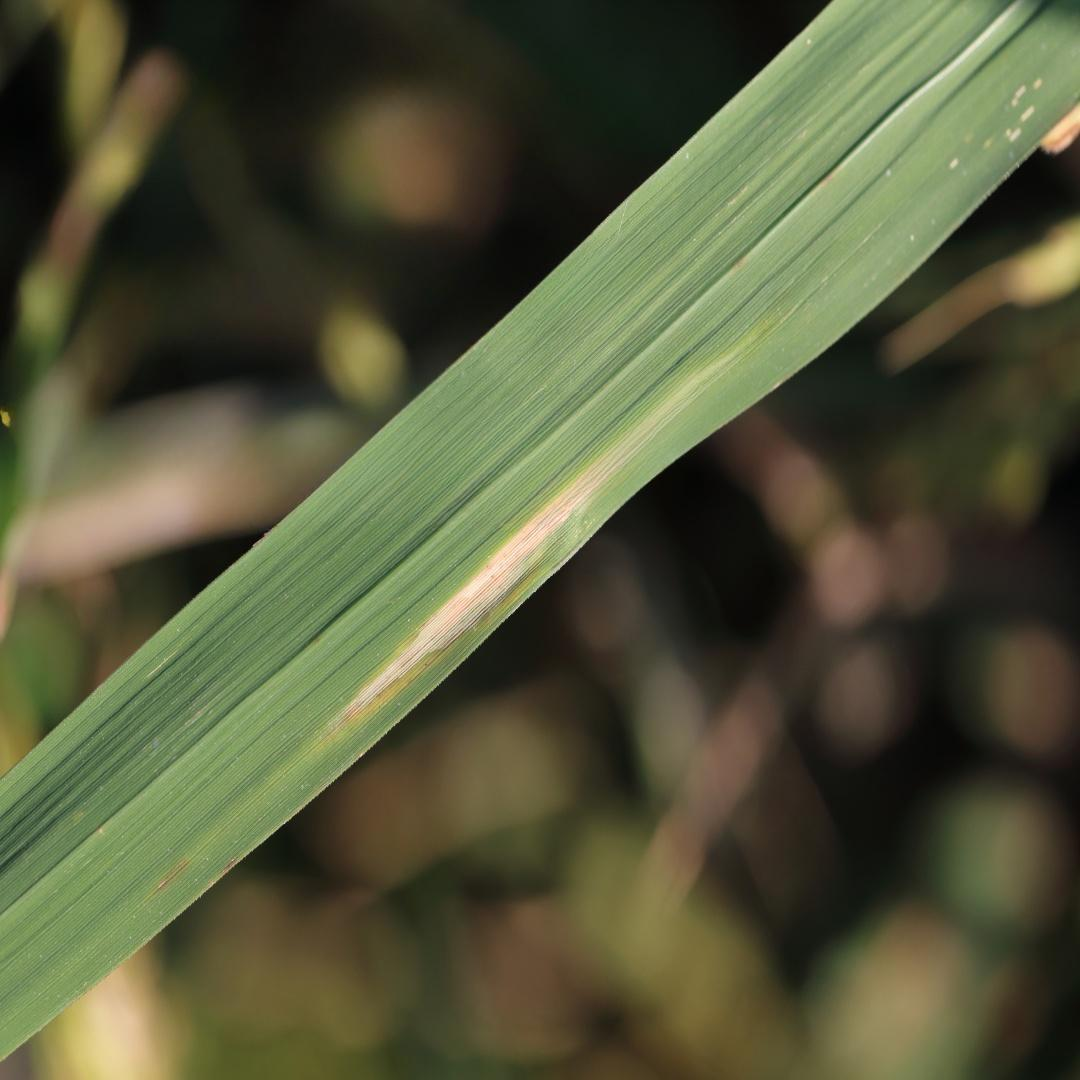BLB: (343, 451, 635, 723)
LEAF: (0, 0, 1079, 1055)
